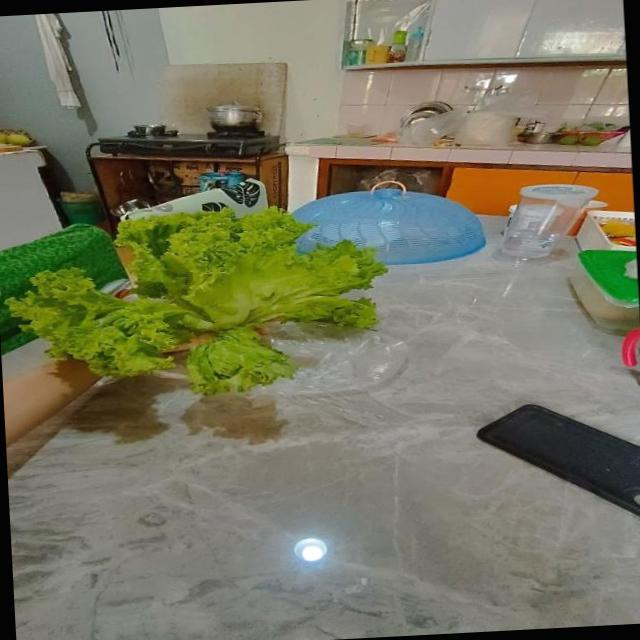Lettuce-Ready-to-Harvest: (9, 208, 386, 392)
